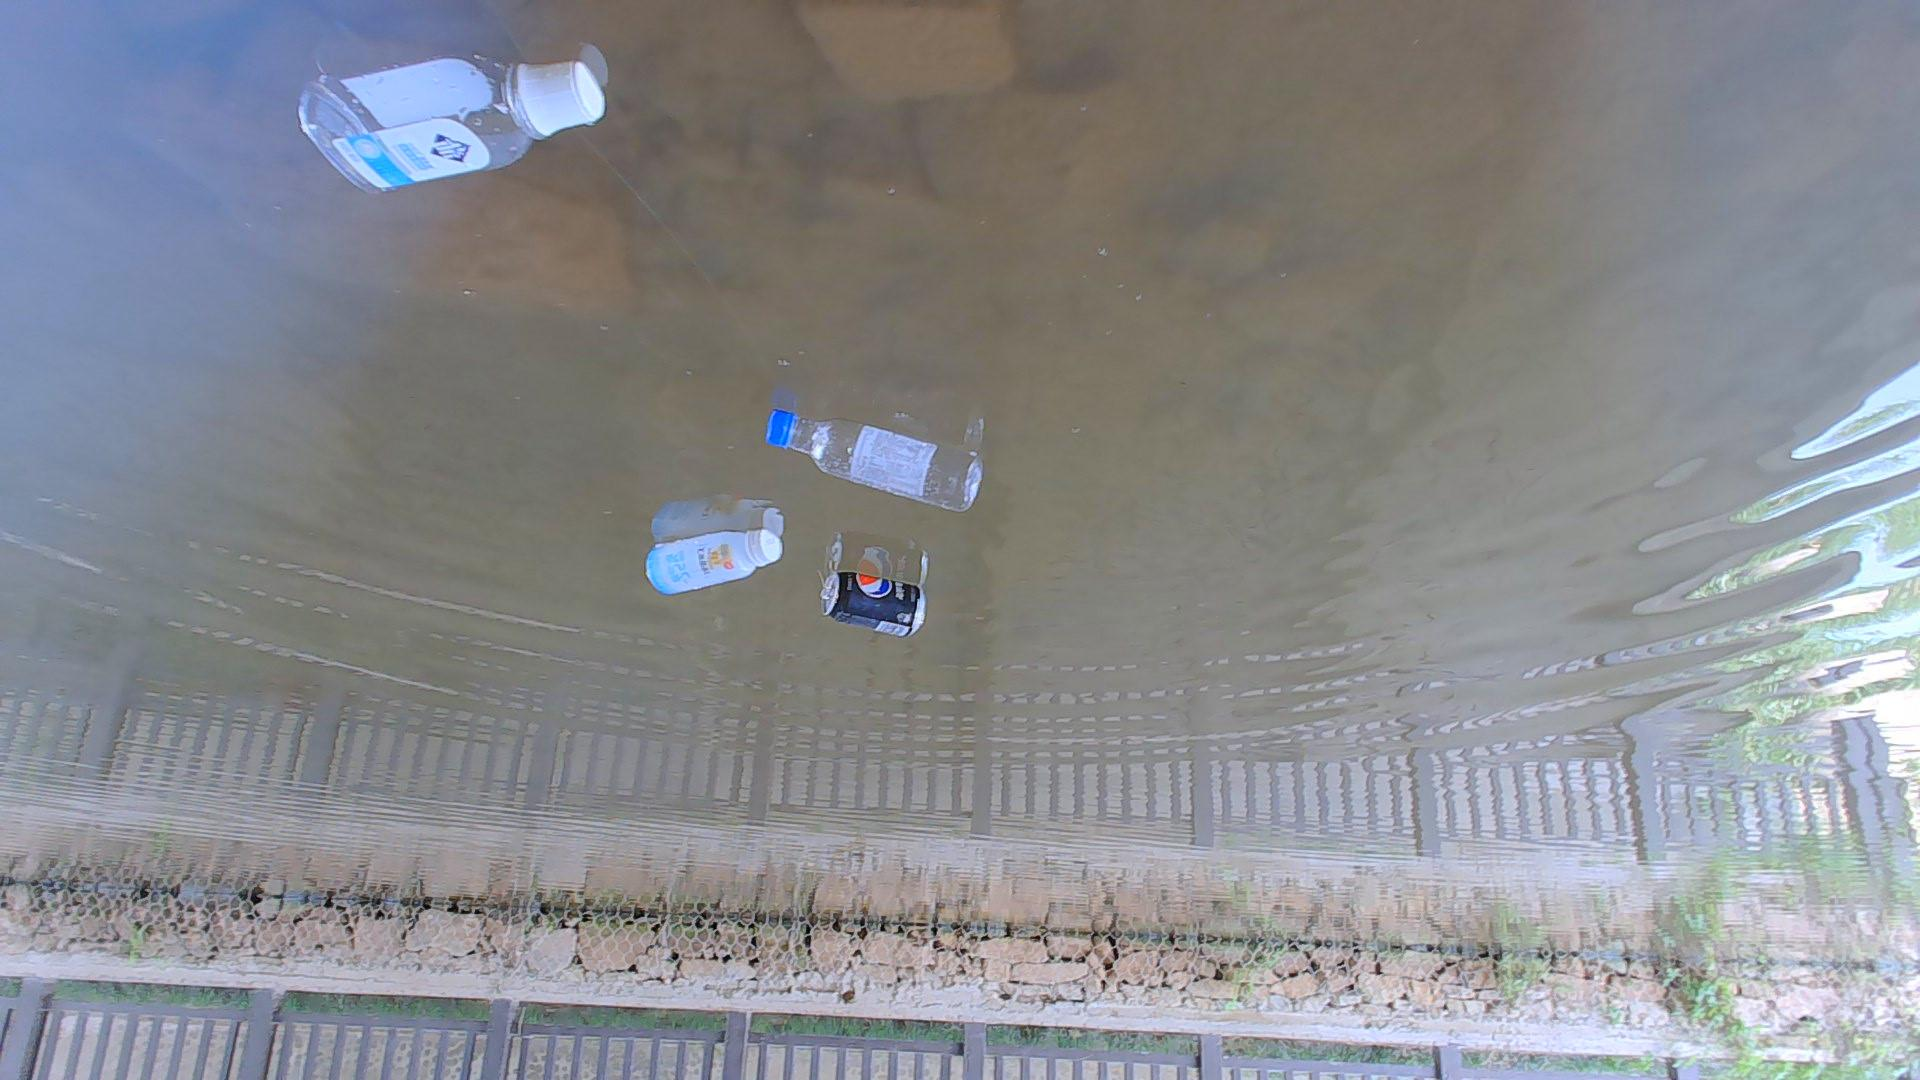Metal: (816, 562, 932, 638)
Plastic: (291, 55, 607, 200), (764, 410, 986, 521), (640, 529, 787, 604)
